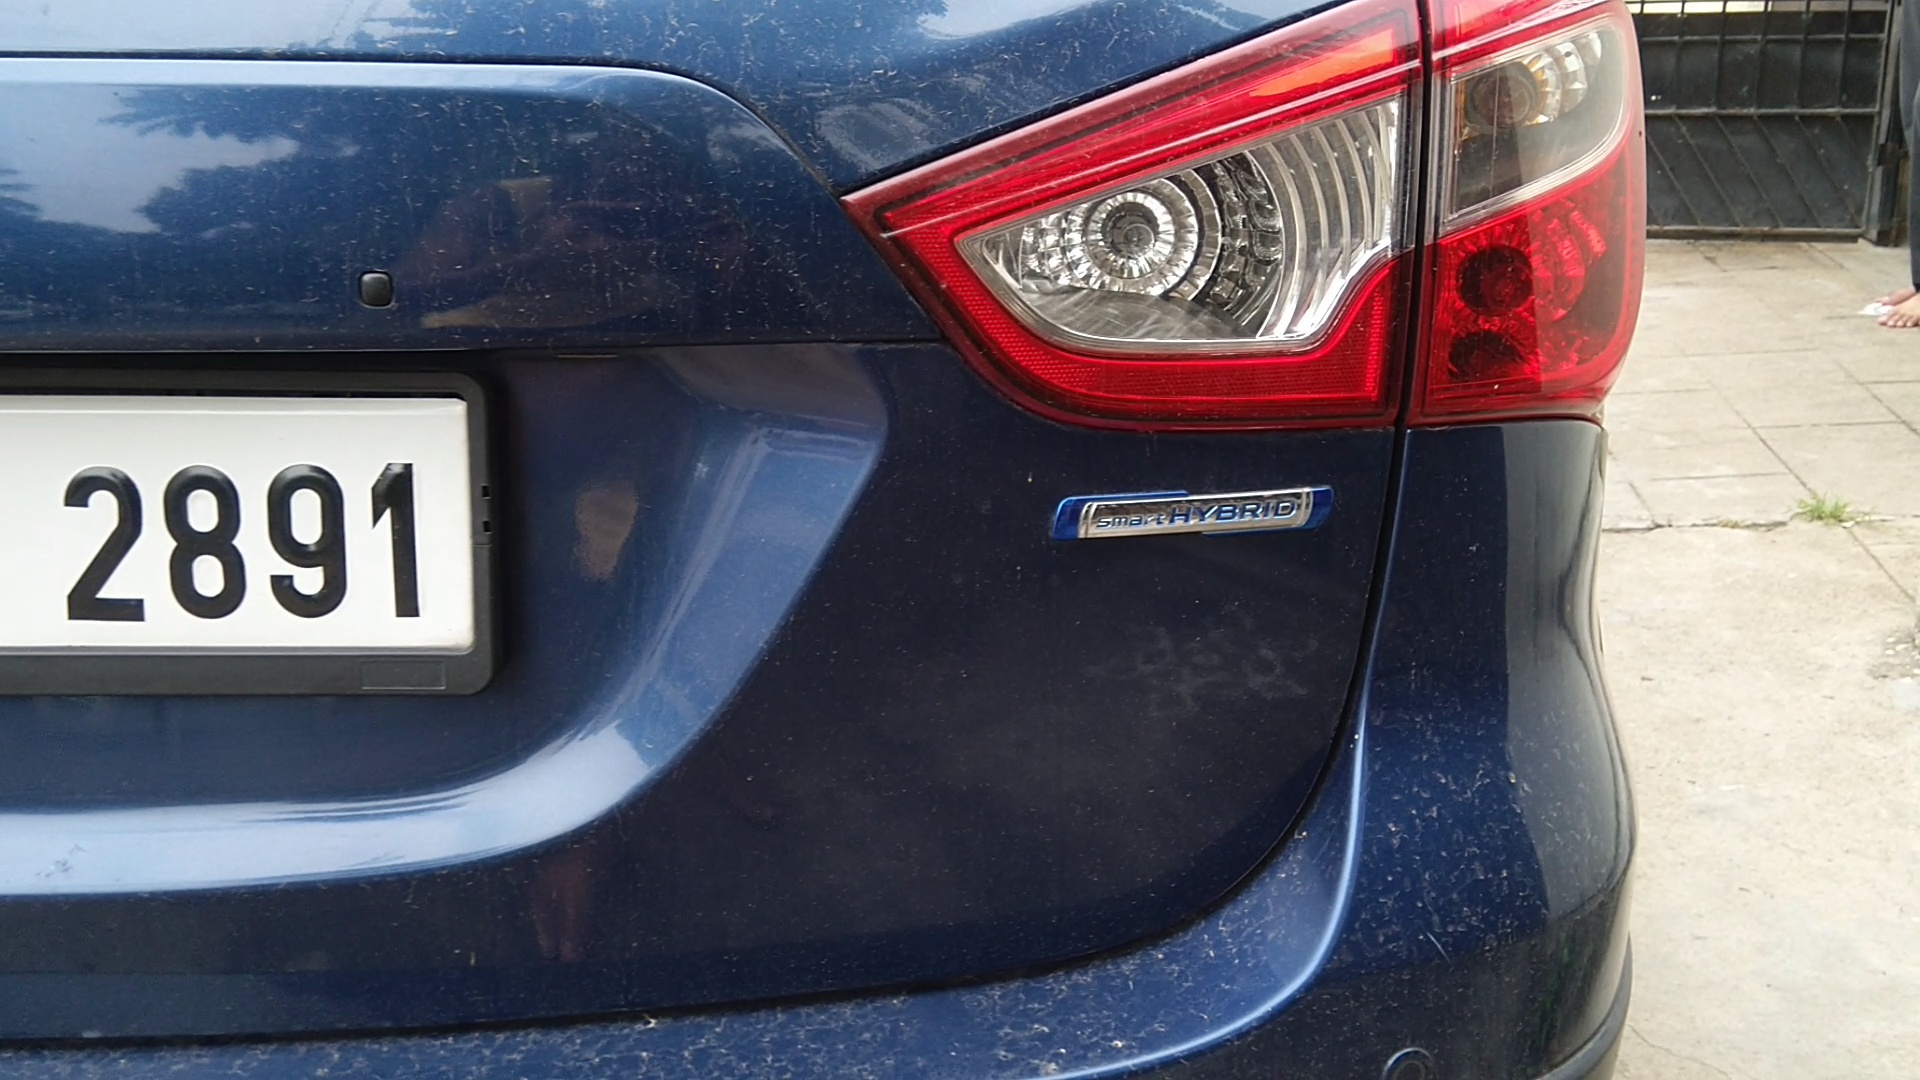shvs: (1035, 458, 1367, 575)
